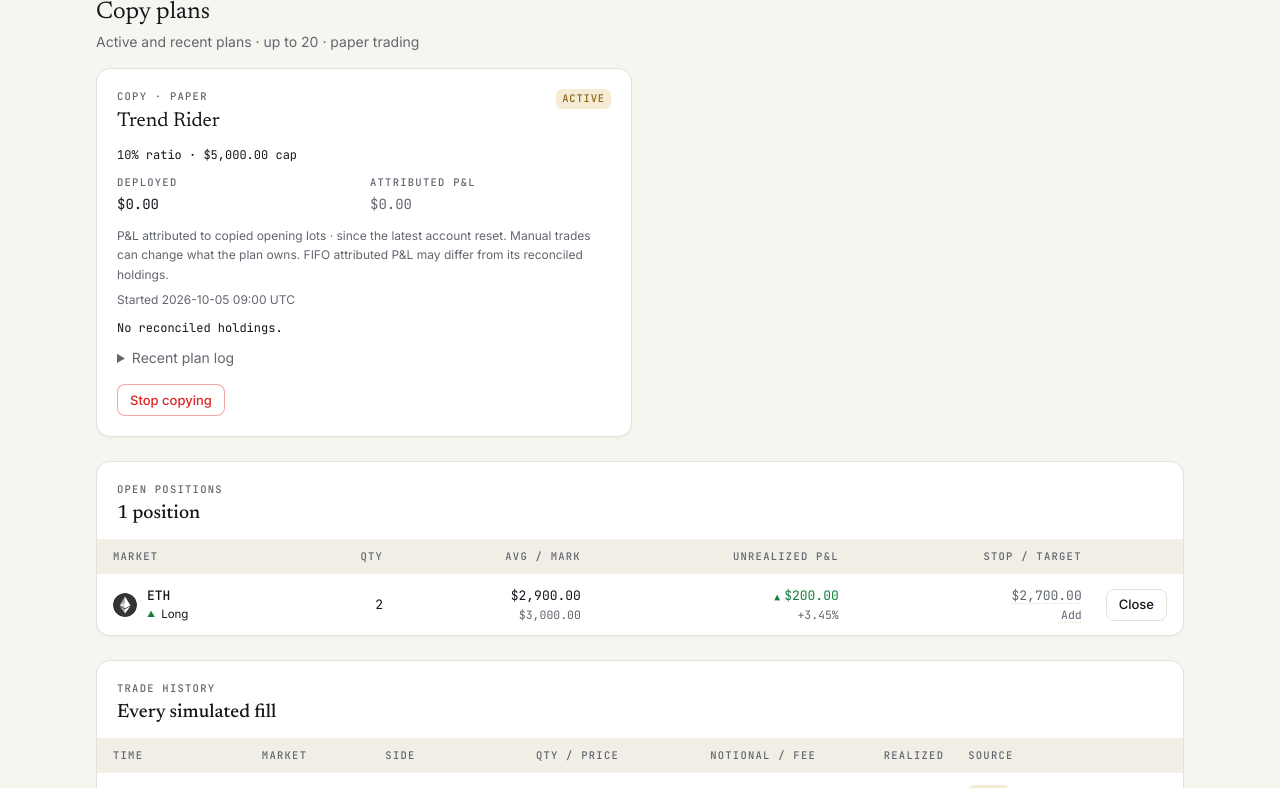
it: Account copy plans › refreshes plans and history when the portfolio revision advances, refusing late pre-stop reads
(page scrolled)
Check: the element named "Copy plan Trend Rider" is shown, box [96,68,632,438]
Click the button "Stop copying" at (171, 400), box [117,384,225,416]
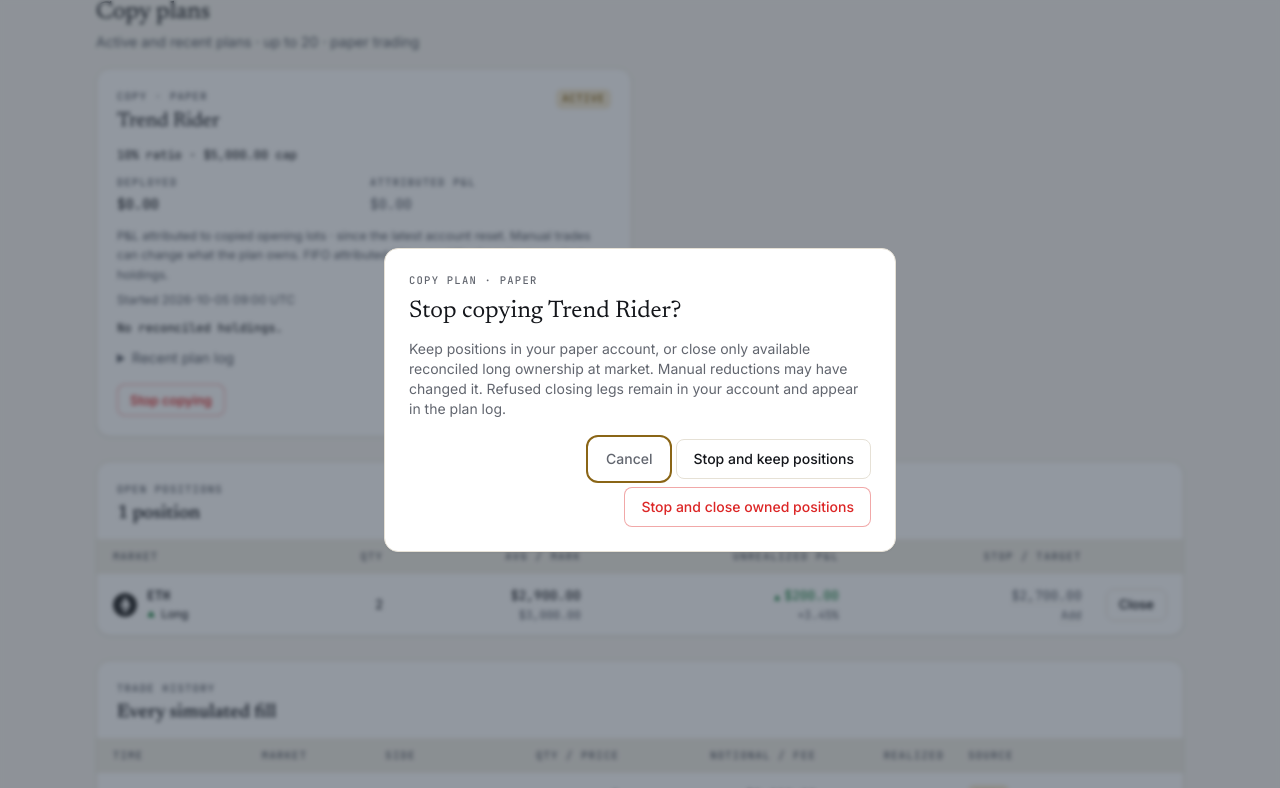
Click the button "Stop and close owned positions" at (748, 507), box [624,487,871,527]
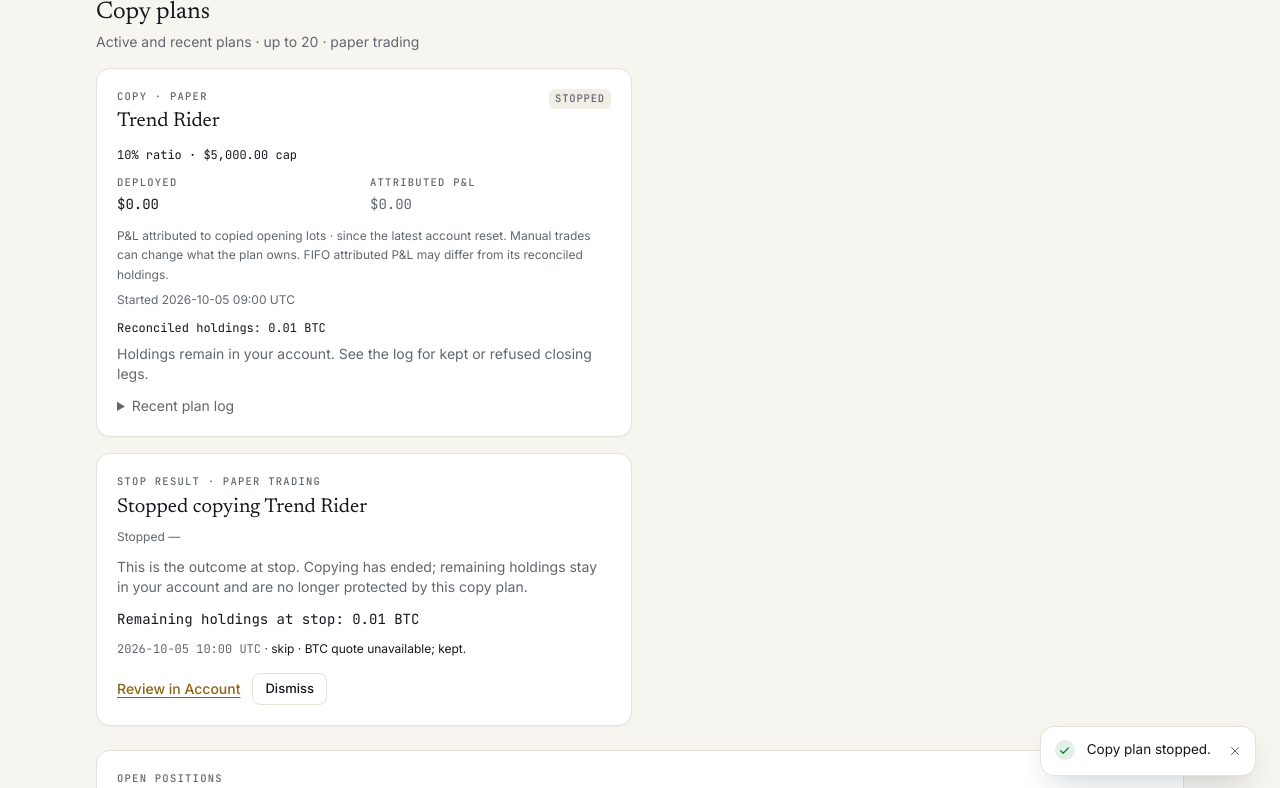
Check: the text "Holdings remain in your account" is shown, box [117,345,592,382]
Check: the button "Stop copying" is gone
